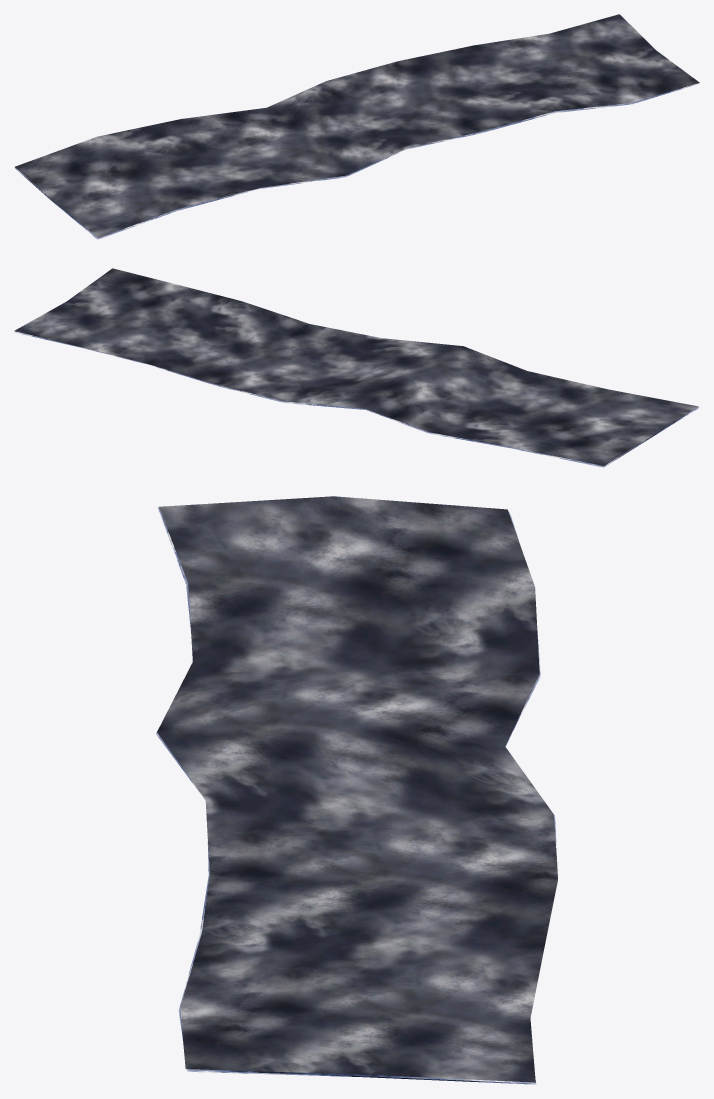
The model's file is LONE_MOUNTAIN_WATERFALLS_MAINWATER_TREASURY01.fbx.
3 renders of one model, top to bottom at view 1: azimuth 30°, elevation 25°; view 2: azimuth 150°, elevation 25°; view 3: azimuth 270°, elevation 25°, orthographic. The views are drawn at different scales.
Parts seen in each view (by area): view 1: LONE_MOUNTAIN_WATERFALLS_MAINWATER_TREASURY01; view 2: LONE_MOUNTAIN_WATERFALLS_MAINWATER_TREASURY01; view 3: LONE_MOUNTAIN_WATERFALLS_MAINWATER_TREASURY01.
Boxes of the visible parts, bbox=[...] form: LONE_MOUNTAIN_WATERFALLS_MAINWATER_TREASURY01: bbox=[14, 14, 699, 239]; LONE_MOUNTAIN_WATERFALLS_MAINWATER_TREASURY01: bbox=[14, 268, 699, 467]; LONE_MOUNTAIN_WATERFALLS_MAINWATER_TREASURY01: bbox=[156, 496, 557, 1084].
Size of the model in its own units: 120583 by 1818 by 35507.
2 materials, 2 textured.
